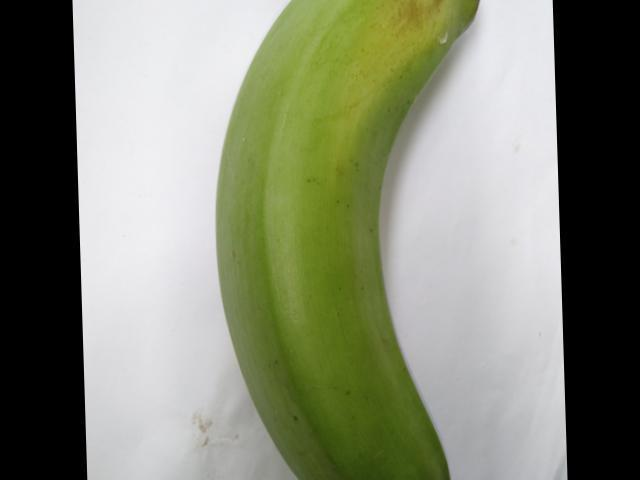freshunripe: (203, 0, 499, 479)
